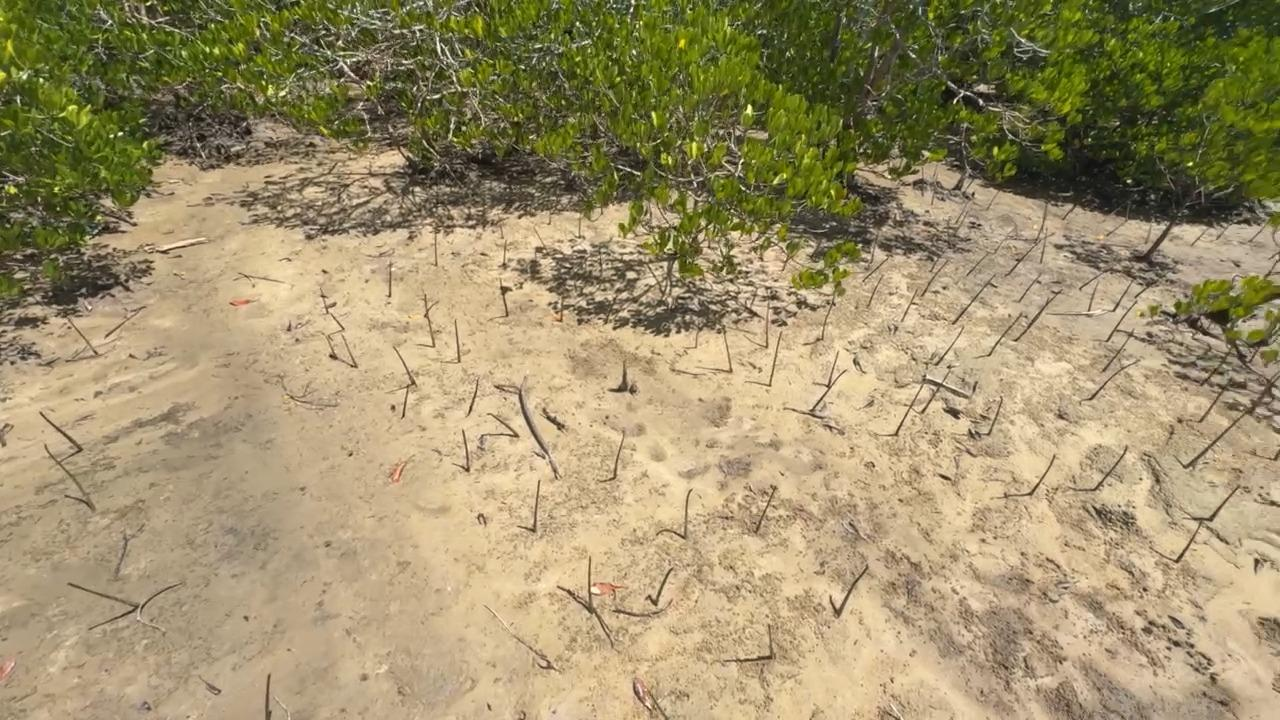Tree: (1184, 409, 1246, 469), (45, 443, 94, 509), (821, 265, 851, 341), (952, 273, 995, 325), (1088, 359, 1141, 399), (66, 582, 139, 608), (835, 563, 869, 617), (38, 411, 83, 451), (1092, 443, 1129, 490), (1013, 297, 1050, 341), (809, 369, 848, 410), (895, 382, 925, 435), (987, 312, 1022, 356), (1198, 378, 1232, 423), (920, 368, 953, 414), (1102, 328, 1135, 372), (1199, 345, 1233, 387), (1004, 240, 1042, 277), (1105, 300, 1138, 341), (1208, 484, 1241, 522), (1174, 520, 1203, 563), (1029, 453, 1057, 496), (934, 325, 964, 365), (67, 317, 97, 355), (755, 485, 778, 533), (920, 260, 949, 297), (1260, 342, 1280, 394), (1248, 211, 1280, 243), (392, 346, 415, 384), (486, 412, 520, 437), (1111, 278, 1135, 312), (781, 236, 804, 271), (655, 566, 674, 606), (769, 331, 782, 386), (1037, 289, 1064, 314), (424, 293, 436, 348), (862, 257, 889, 281), (316, 330, 338, 359), (1033, 202, 1048, 244), (341, 333, 359, 368), (1079, 270, 1110, 290), (987, 395, 1002, 436), (866, 275, 885, 307), (966, 252, 991, 276), (900, 289, 918, 322), (613, 430, 625, 479), (721, 324, 733, 372), (994, 227, 1016, 253), (1134, 278, 1160, 299), (466, 380, 479, 418), (532, 479, 541, 532), (1101, 202, 1126, 221), (827, 350, 840, 386), (684, 488, 693, 539), (929, 248, 947, 273), (1087, 280, 1100, 312), (1215, 220, 1234, 241), (461, 428, 470, 472), (953, 211, 968, 237), (1191, 226, 1209, 246), (588, 555, 594, 614), (500, 278, 509, 317), (533, 226, 547, 251), (1105, 221, 1126, 237), (264, 672, 271, 720), (1040, 227, 1049, 264), (985, 189, 1000, 211), (400, 383, 409, 419), (954, 201, 968, 224), (454, 319, 461, 363), (869, 230, 878, 264), (1061, 200, 1076, 220), (931, 173, 939, 206), (330, 313, 345, 330), (424, 300, 439, 317), (320, 287, 329, 314), (768, 623, 774, 659), (964, 177, 975, 194), (766, 303, 770, 348), (1144, 223, 1152, 244), (434, 227, 438, 266), (622, 360, 627, 391), (388, 260, 392, 298), (695, 327, 702, 348), (1125, 201, 1130, 222), (560, 296, 564, 322), (503, 240, 507, 266), (1273, 448, 1280, 461), (578, 212, 581, 238), (933, 163, 938, 178), (499, 225, 504, 239), (922, 166, 924, 197), (548, 209, 551, 225)
